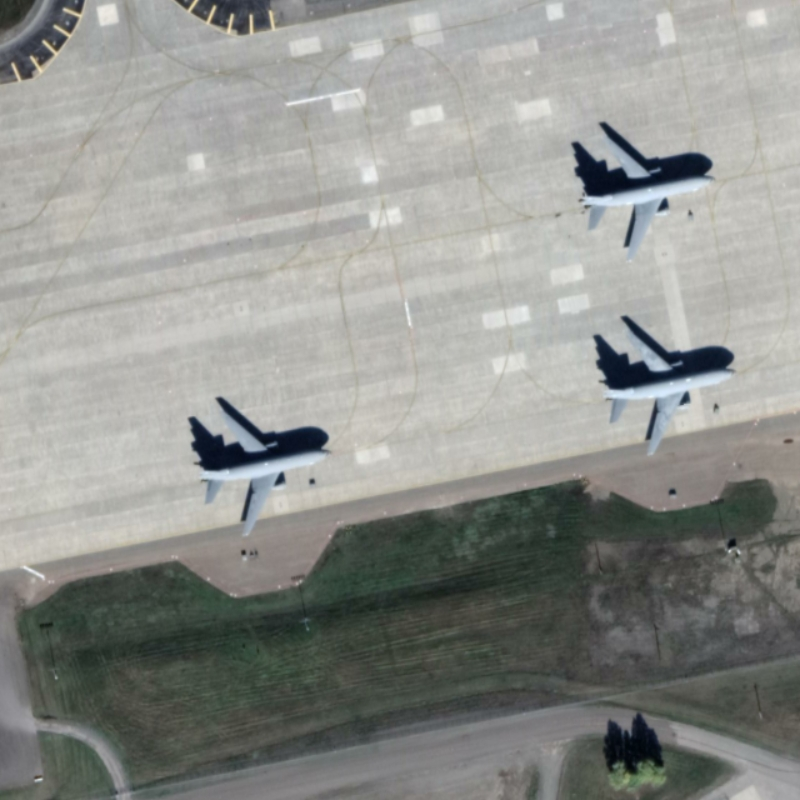A18: (583, 309, 745, 463), (178, 385, 334, 544), (569, 111, 717, 264)
